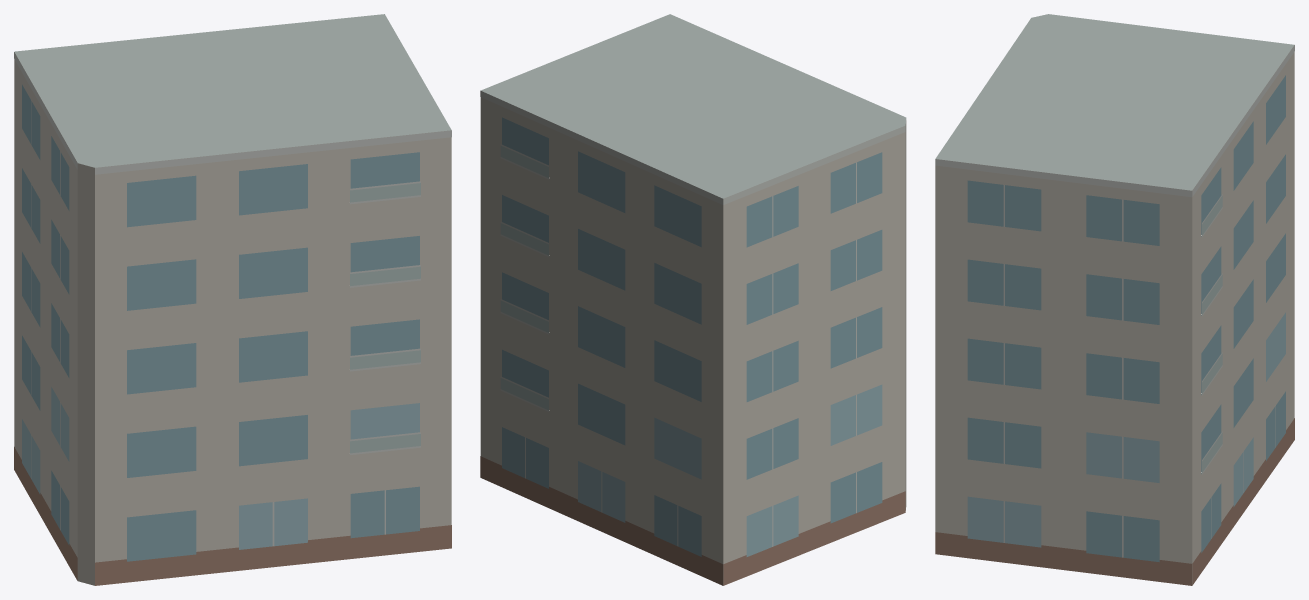
Rendered from survey-upis-32948612.glb.
3 views of the same model, side by side, from view 1: azimuth 30°, elevation 25°; view 2: azimuth 150°, elevation 25°; view 3: azimuth 270°, elevation 25° (orthographic). The views are drawn at different scales.
Visible parts, largest first — view 1: survey-upis-32948612.tmp; view 2: survey-upis-32948612.tmp; view 3: survey-upis-32948612.tmp.
Part boxes in pixels (x1,y1,x2,y2): survey-upis-32948612.tmp: (14, 14, 451, 585); survey-upis-32948612.tmp: (480, 14, 906, 585); survey-upis-32948612.tmp: (935, 14, 1294, 585).
Bounding box in the file's own units: 14.06 × 14.65 × 12.09.
